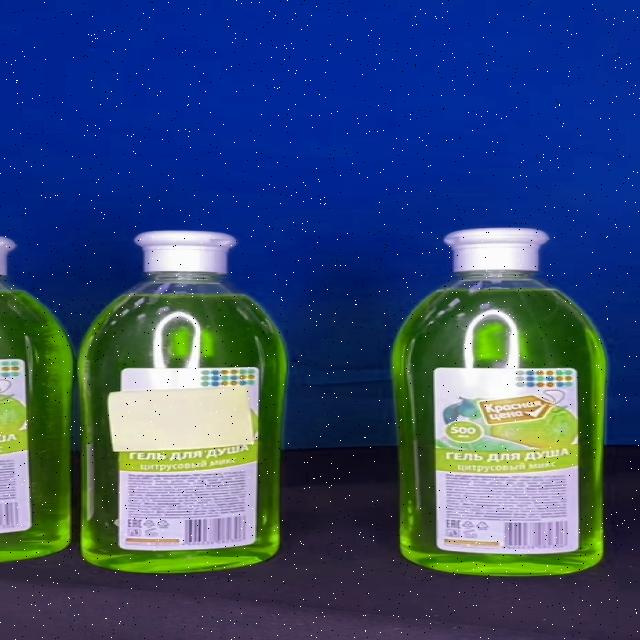Bottle: (394, 228, 608, 576), (76, 229, 287, 572)
Cap: (135, 230, 237, 274), (444, 229, 548, 272)
